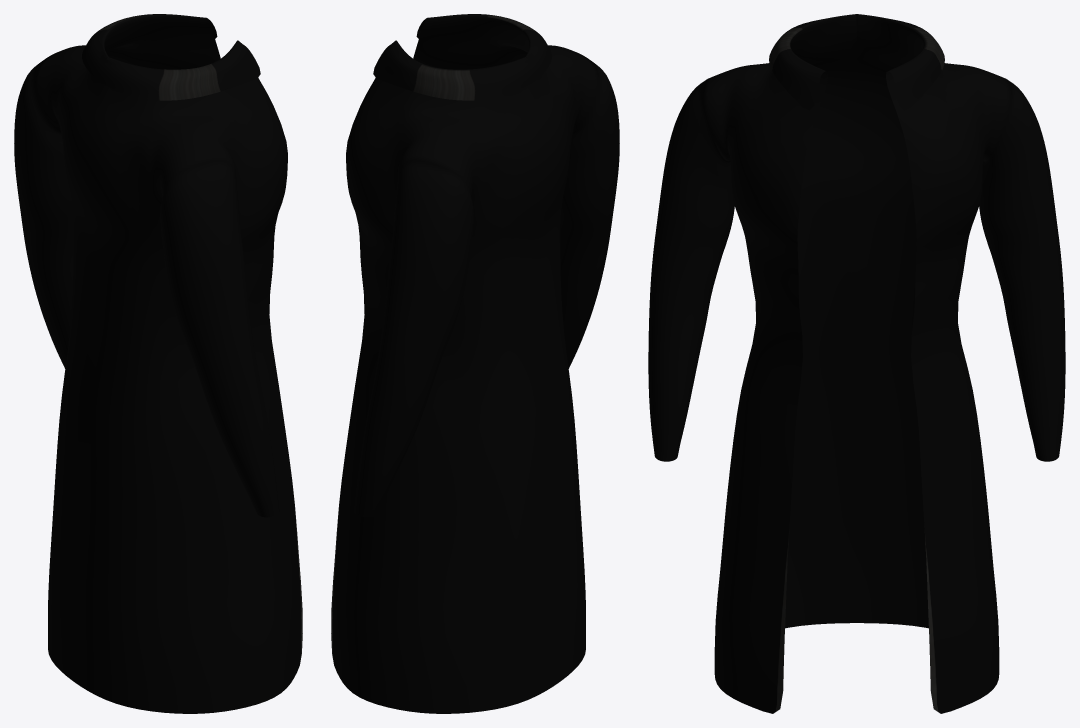
File: hanging_coat.fbx
3 views of the same model, side by side, from view 1: azimuth 30°, elevation 25°; view 2: azimuth 150°, elevation 25°; view 3: azimuth 270°, elevation 25° (orthographic).
Parts seen in each view (by area): view 1: Belt.002; view 2: Belt.002; view 3: Belt.002.
Part boxes in pixels (x1,y1,x2,y2): Belt.002: (14,14,302,713); Belt.002: (331,14,619,713); Belt.002: (648,14,1065,713).
Bounding box in the file's own units: 229 × 699 × 421.
2 materials, 2 textured.
